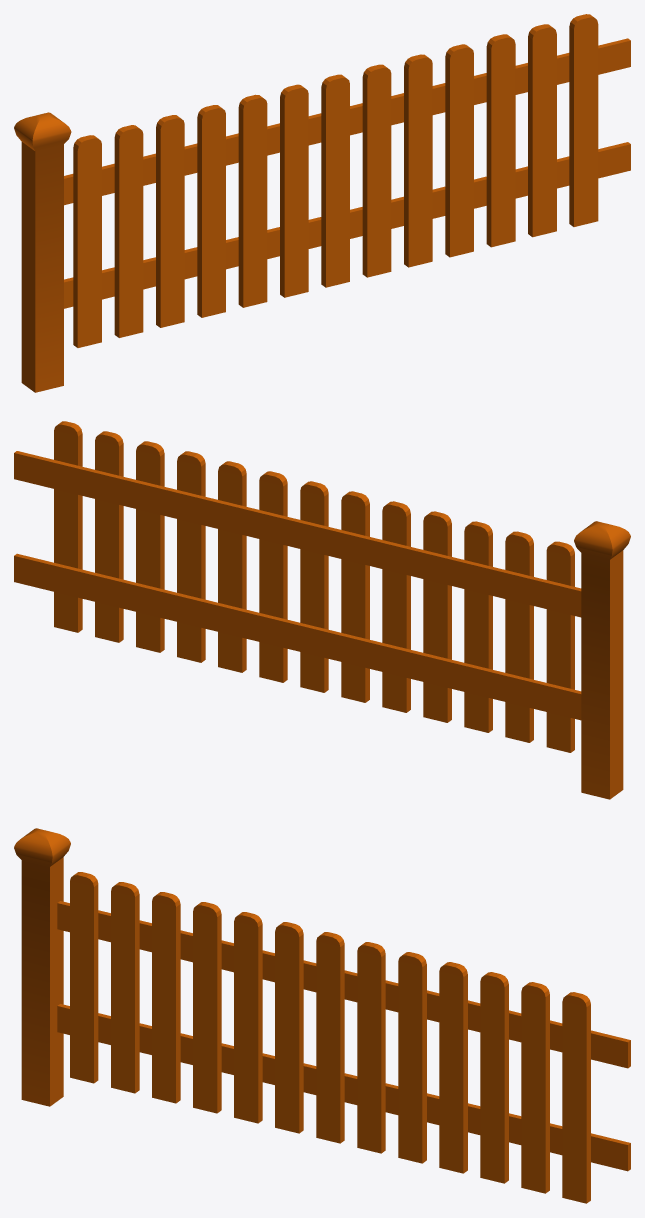
Rendered from Fence_2.1.fbx.
3 renders of one model, top to bottom at view 1: azimuth 30°, elevation 25°; view 2: azimuth 150°, elevation 25°; view 3: azimuth 330°, elevation 25°, orthographic.
Visible parts, largest first — view 1: Fence_2.1; view 2: Fence_2.1; view 3: Fence_2.1.
Part boxes in pixels (box(x1,y1,x2,y2)): Fence_2.1: box(14, 14, 630, 392); Fence_2.1: box(14, 421, 630, 799); Fence_2.1: box(14, 828, 630, 1203).
Size of the model in its own units: 305 by 128 by 16.06.
1 material, 1 textured.
